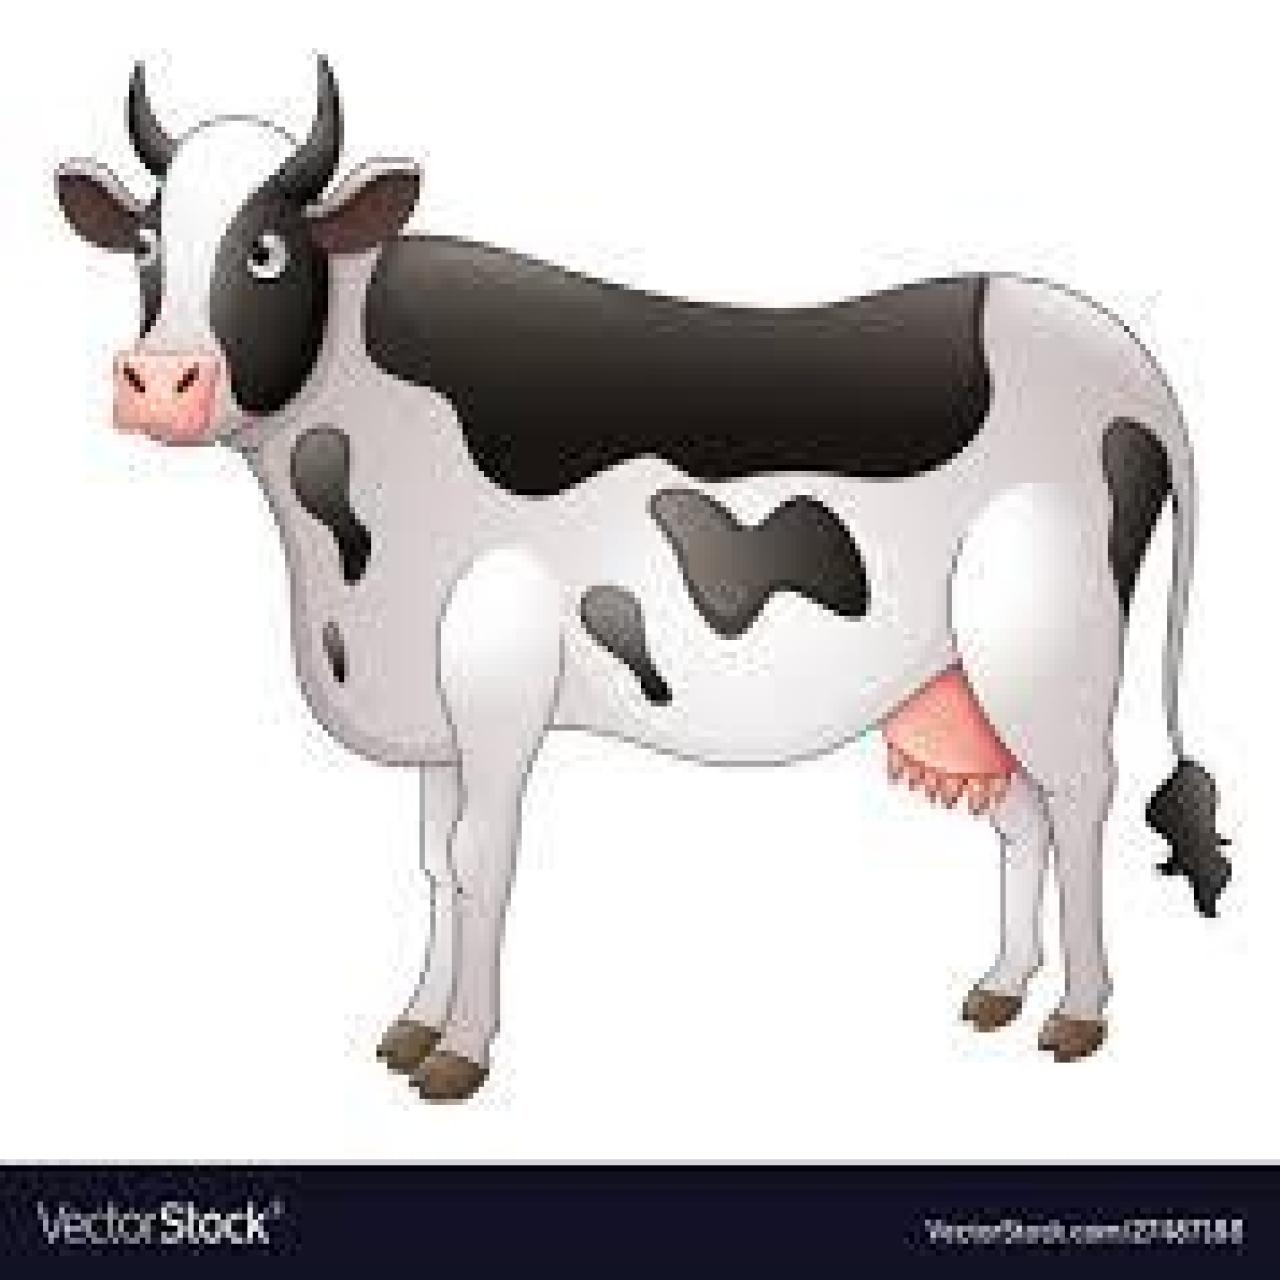cow: (48, 113, 1205, 1096)
